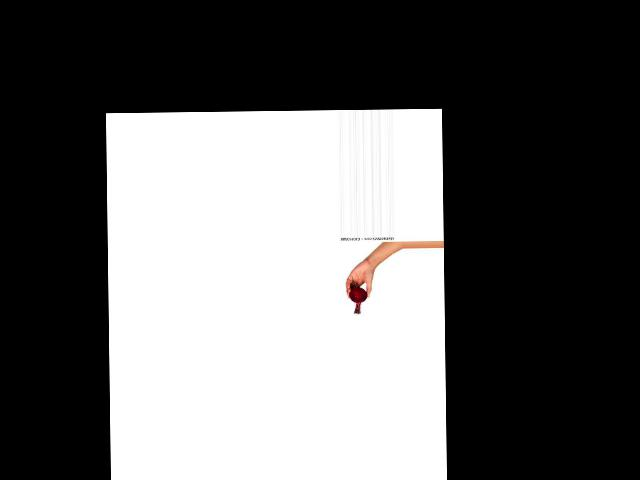beet: (348, 286, 367, 314)
